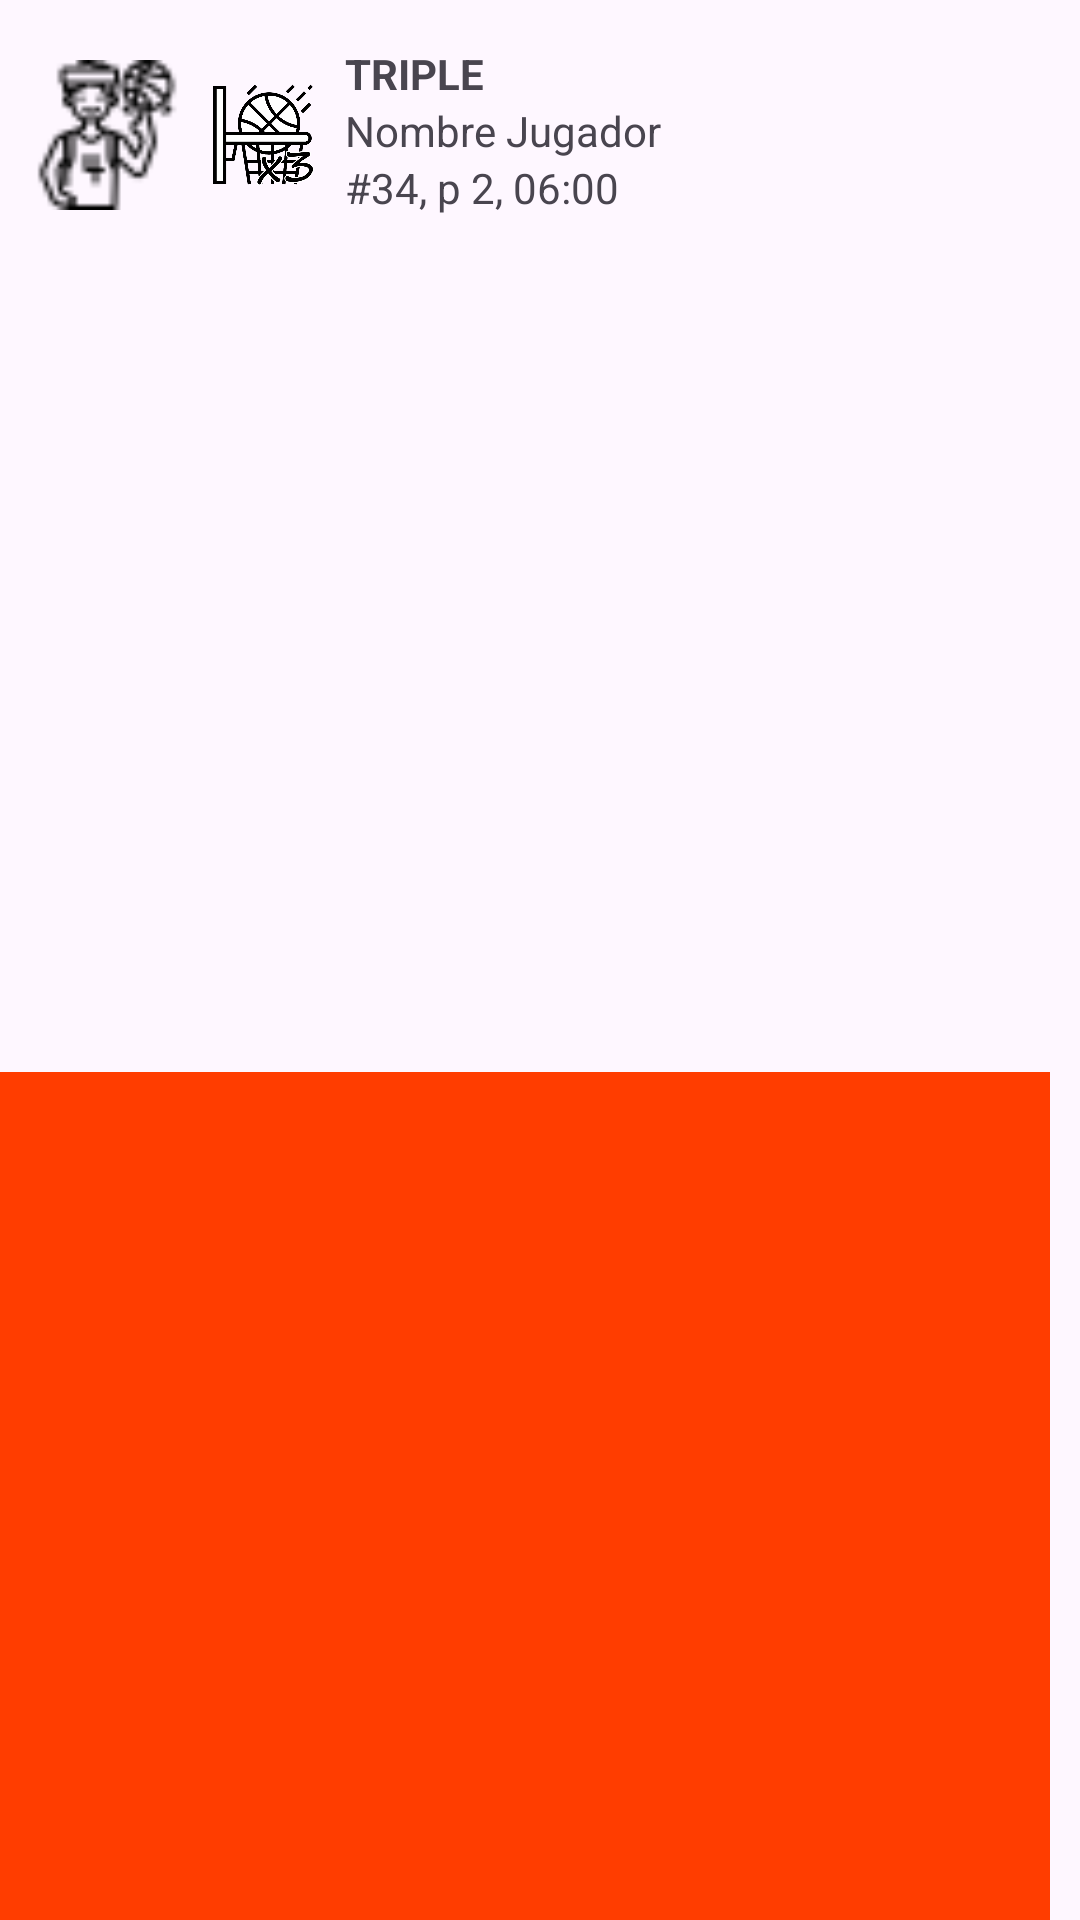

Screen size 1080 × 1920. Icon name, then its box in pixels as (x1, y1, x2, y2):
canasta: (213, 85, 313, 185)
jugador de baloncesto: (38, 60, 177, 210)
